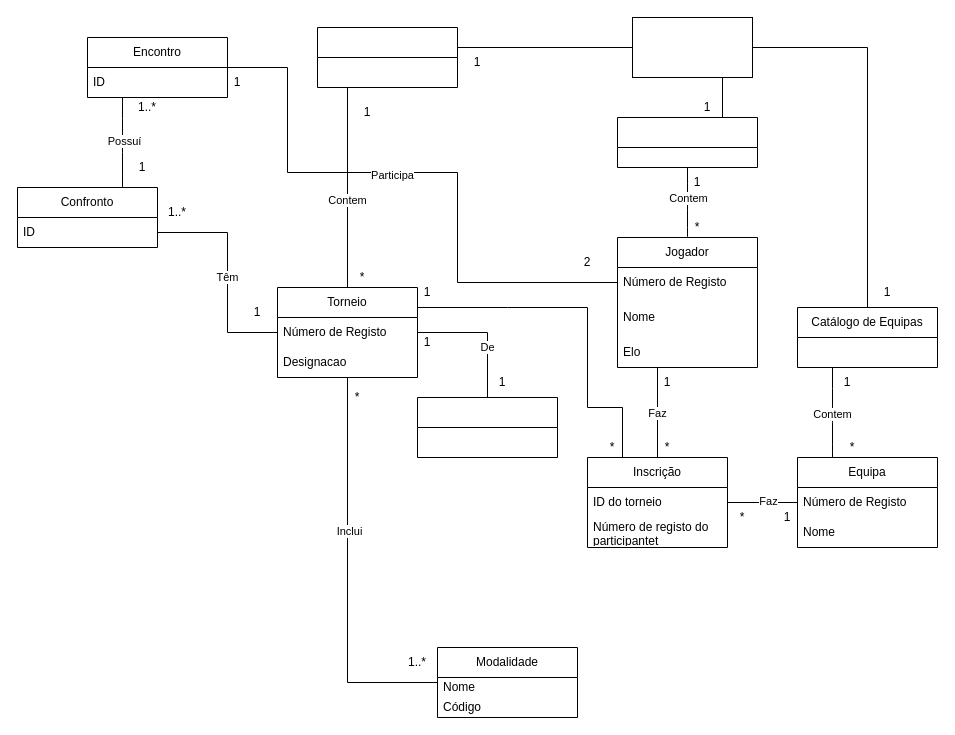
This 955x735 diagram has some shape labels left out. Each missing label, with the centre of its shape:
Catálogo de Jogadores: the point at 687,142
Catálogo de Torneios: the point at 387,57
Tipo: the point at 487,427
TornGes: the point at 692,47
